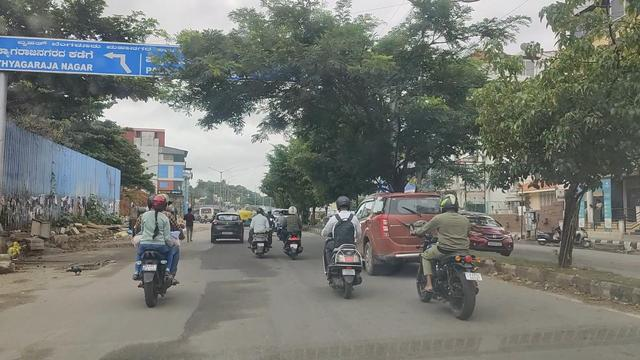LMV: (428, 197, 471, 318), (137, 192, 176, 291), (329, 194, 359, 283), (213, 212, 242, 243), (287, 211, 303, 254), (253, 209, 267, 257)
RoadDamages: (196, 283, 263, 329), (101, 344, 239, 360), (200, 249, 253, 280), (53, 256, 104, 286), (26, 339, 52, 360)
